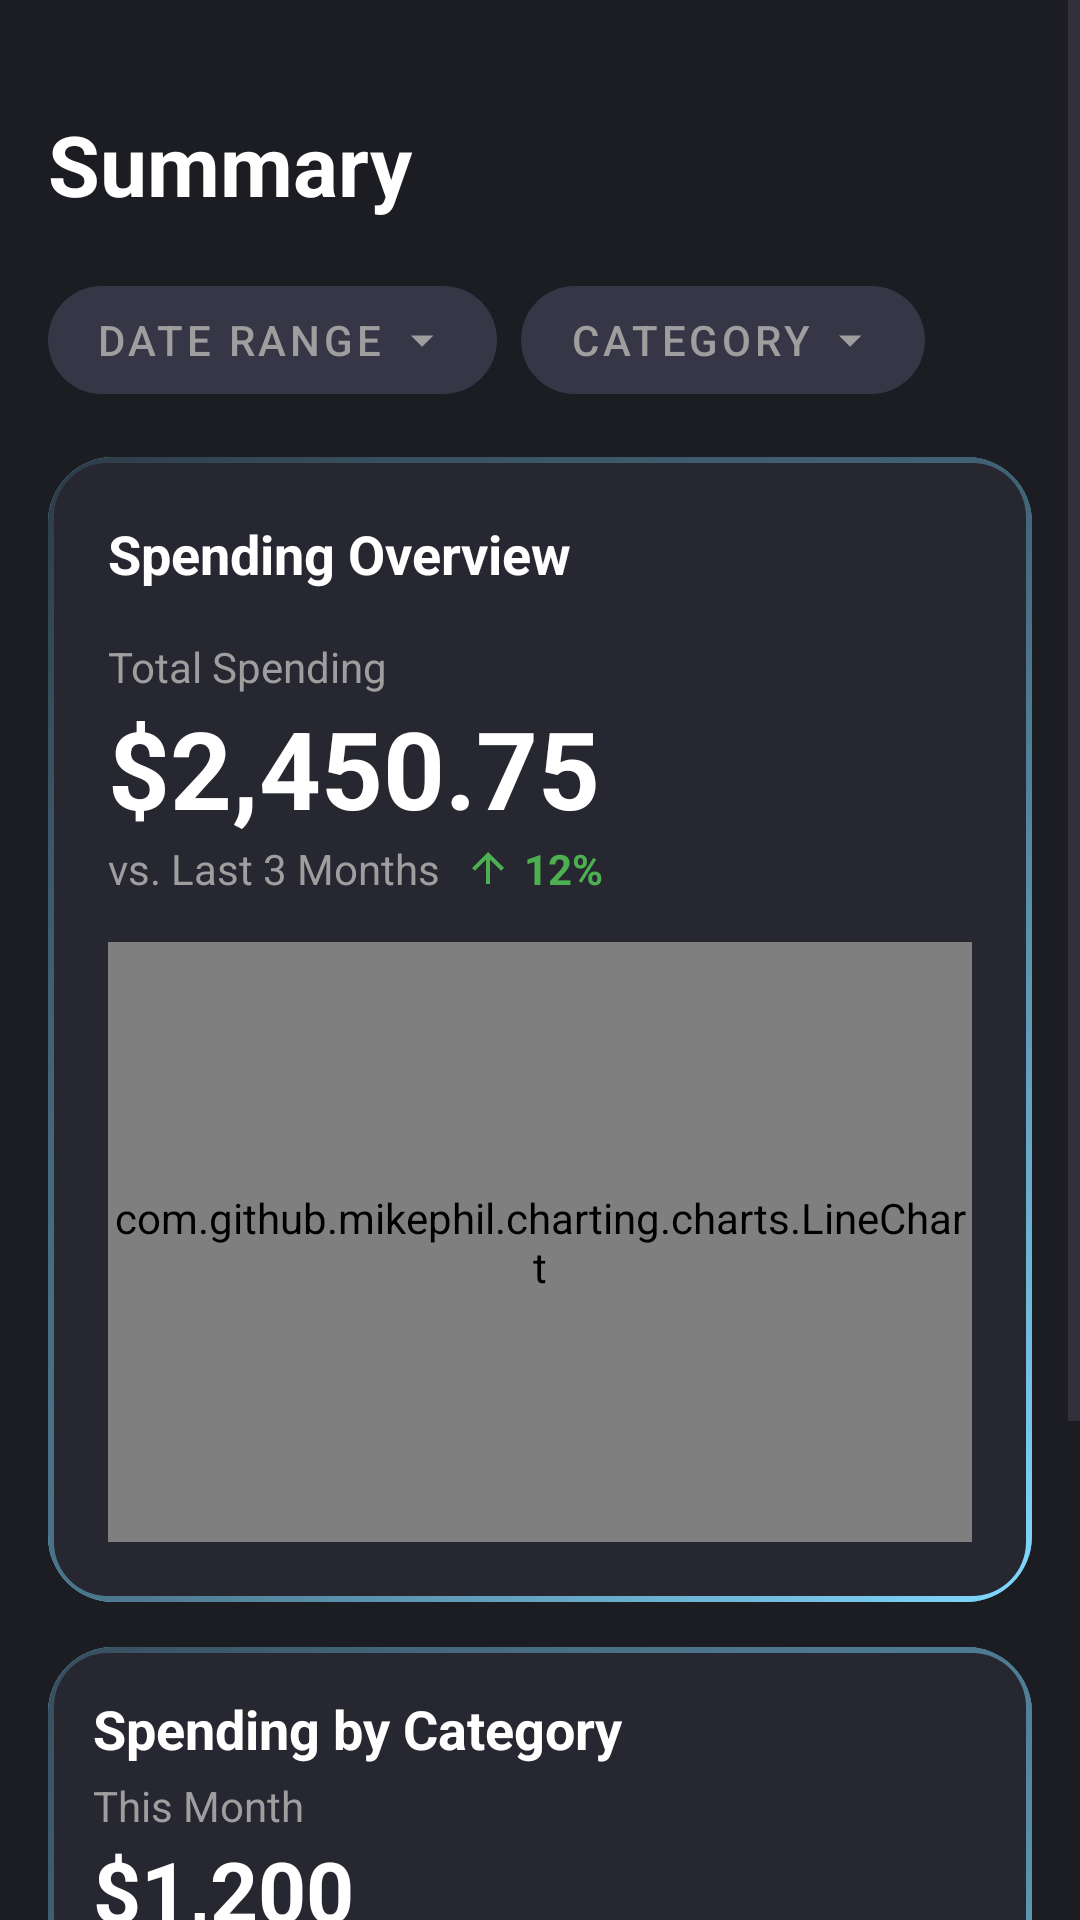

Named icons in this screenshot (1080*1920) and their bounding boxes, bbox=(x1, y1, x2, y2):
arrow upward: bbox=(472, 852, 504, 884)
